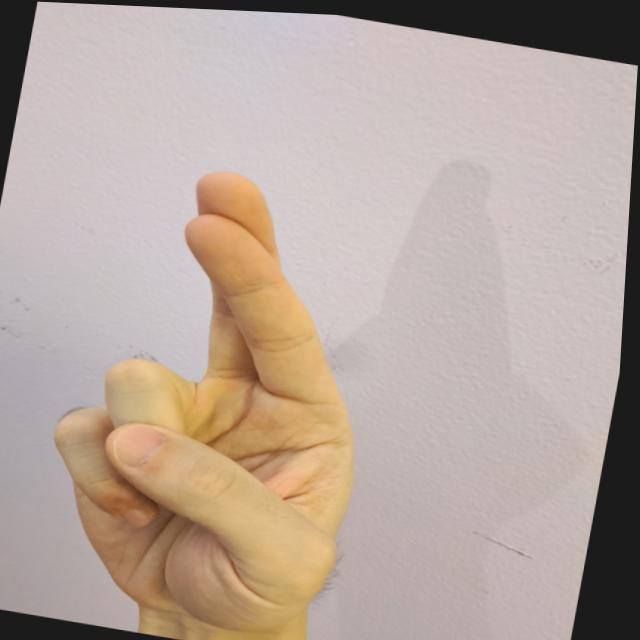R: (19, 138, 423, 639)
